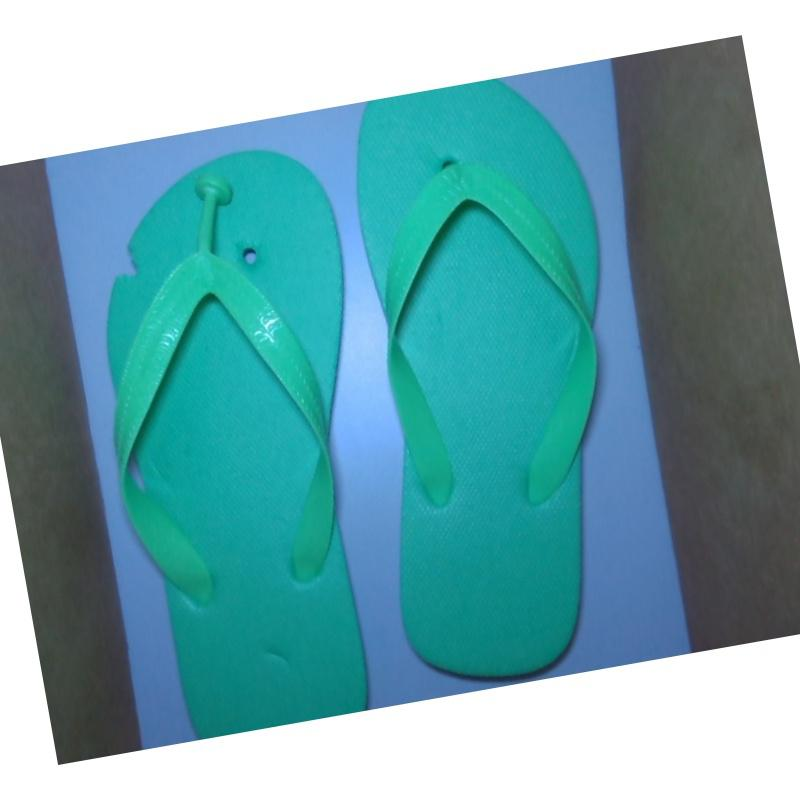chipped: (107, 233, 147, 292)
detached: (192, 168, 238, 232)
